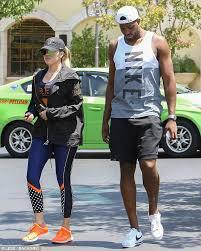Person: (105, 5, 177, 247), (28, 40, 81, 240)
